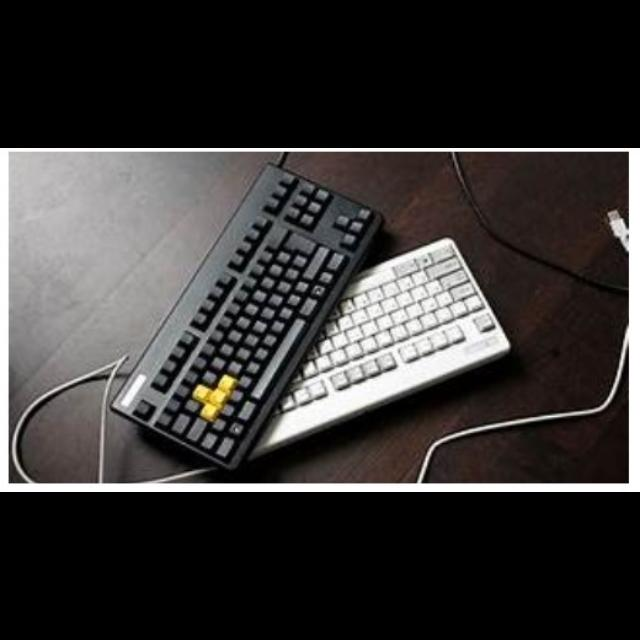Computer-Keyboard: (112, 164, 384, 470)
